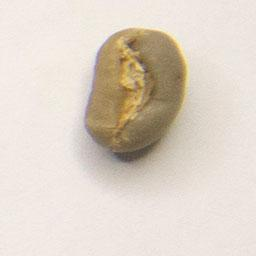peaberry: (81, 23, 189, 156)
